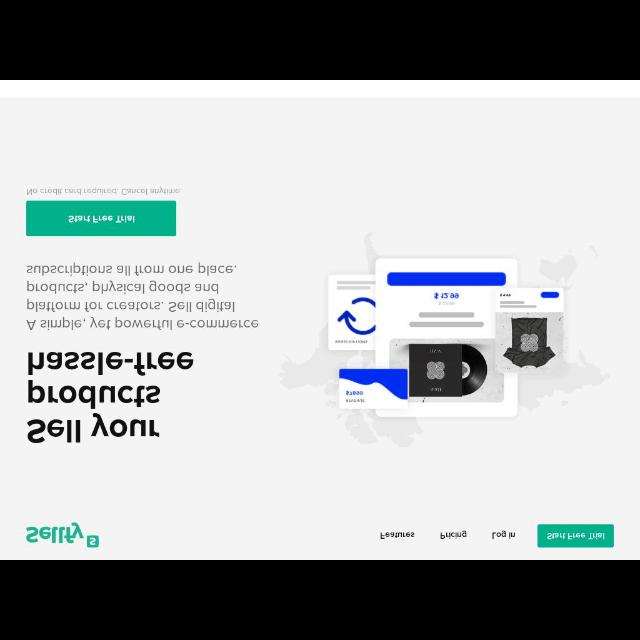image: (280, 231, 612, 449), (26, 522, 100, 548)
multitab: (1, 512, 639, 558)
text: (27, 262, 259, 330), (28, 352, 194, 442), (27, 187, 182, 196), (69, 215, 135, 222), (548, 532, 604, 540), (440, 530, 468, 540), (381, 532, 415, 538), (492, 530, 516, 538)
textbutton: (27, 200, 176, 236), (538, 524, 614, 548)
